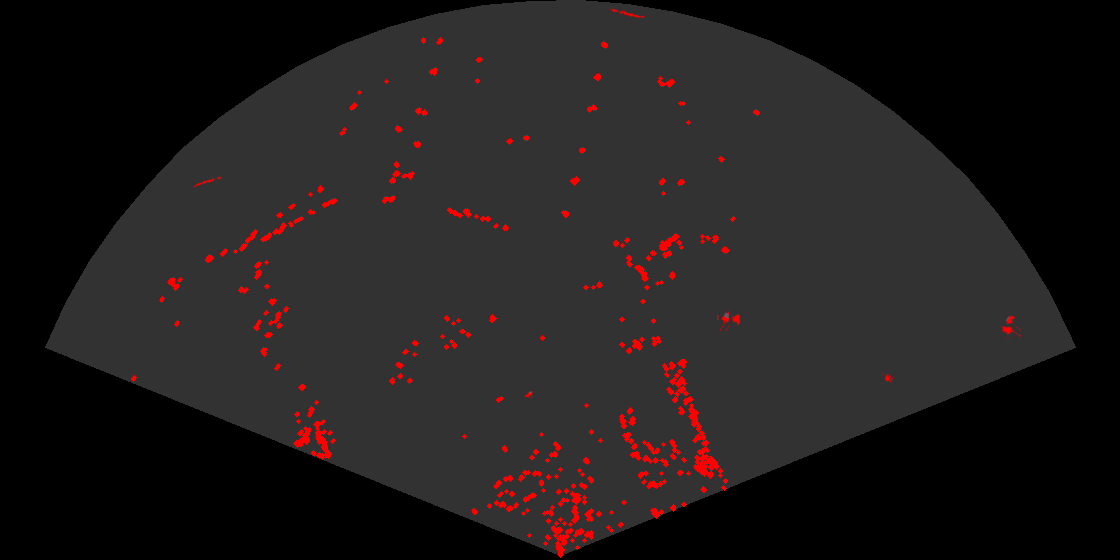AUV: (523, 390, 534, 398)
ball: (881, 370, 895, 384)
cage: (717, 309, 742, 331), (999, 314, 1021, 338)
chain: (610, 7, 645, 19), (192, 175, 222, 189)
